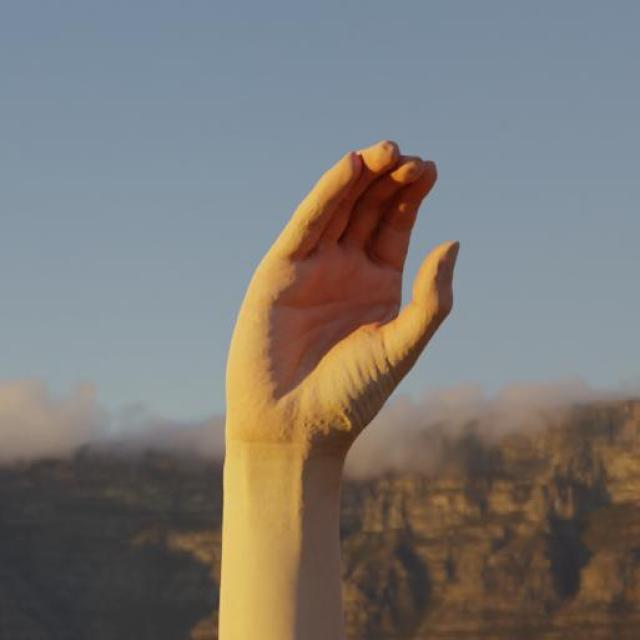C: (222, 135, 469, 453)
